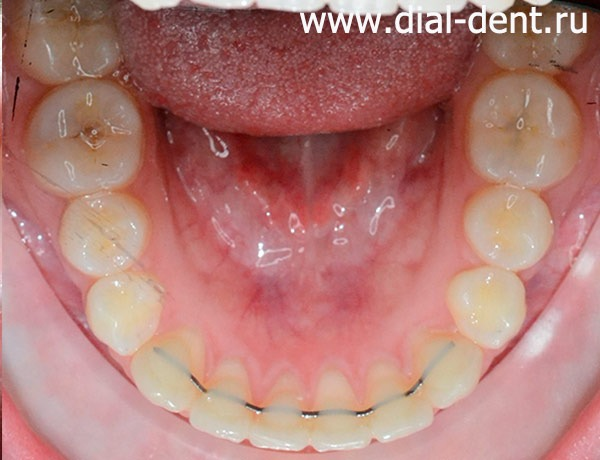LL1BC_healthy: (450, 271, 527, 345)
LL1M_decay: (467, 74, 581, 184)
LL2BC_healthy: (464, 189, 552, 268)
LL2M_decay: (485, 33, 586, 70)
LLCI_decay: (311, 379, 371, 450)
LLC_decay: (408, 334, 480, 407)
LLLI_decay: (369, 376, 432, 439)
LR1BC_healthy: (87, 277, 161, 357)
LR1M_decay: (31, 84, 140, 191)
LR2BC_decay: (59, 198, 146, 273)
LR2M_decay: (27, 5, 117, 80)
LRCI_decay: (253, 380, 309, 449)
LRC_decay: (136, 330, 199, 414)
LRLI_decay: (196, 362, 252, 441)
